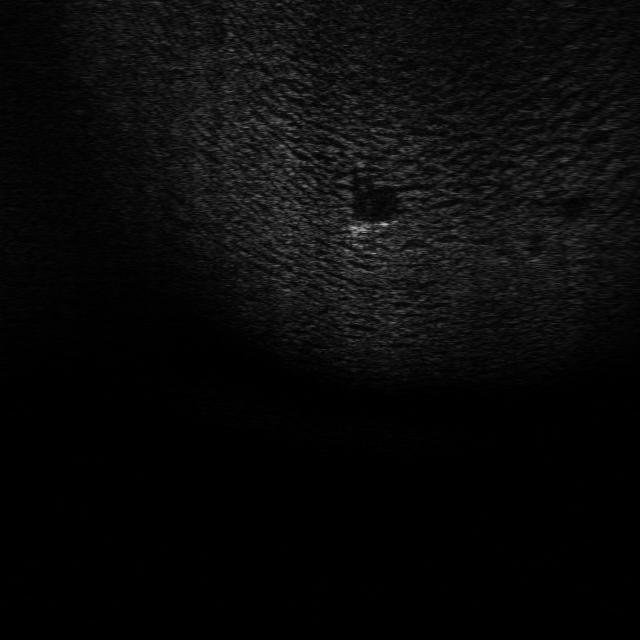plane: (349, 217, 398, 238)
